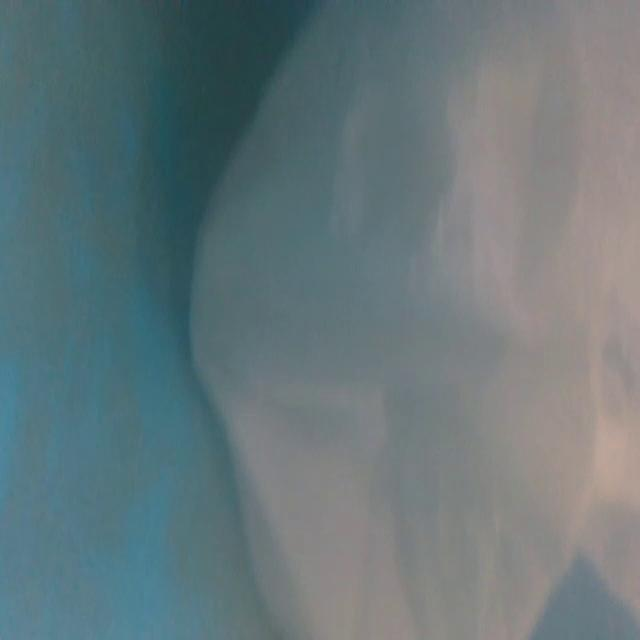plastic bags: (182, 11, 640, 640)
